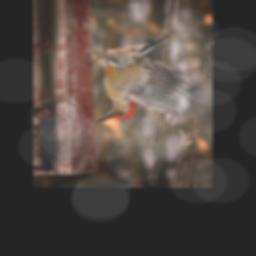Woodpecker: (95, 33, 210, 124)
